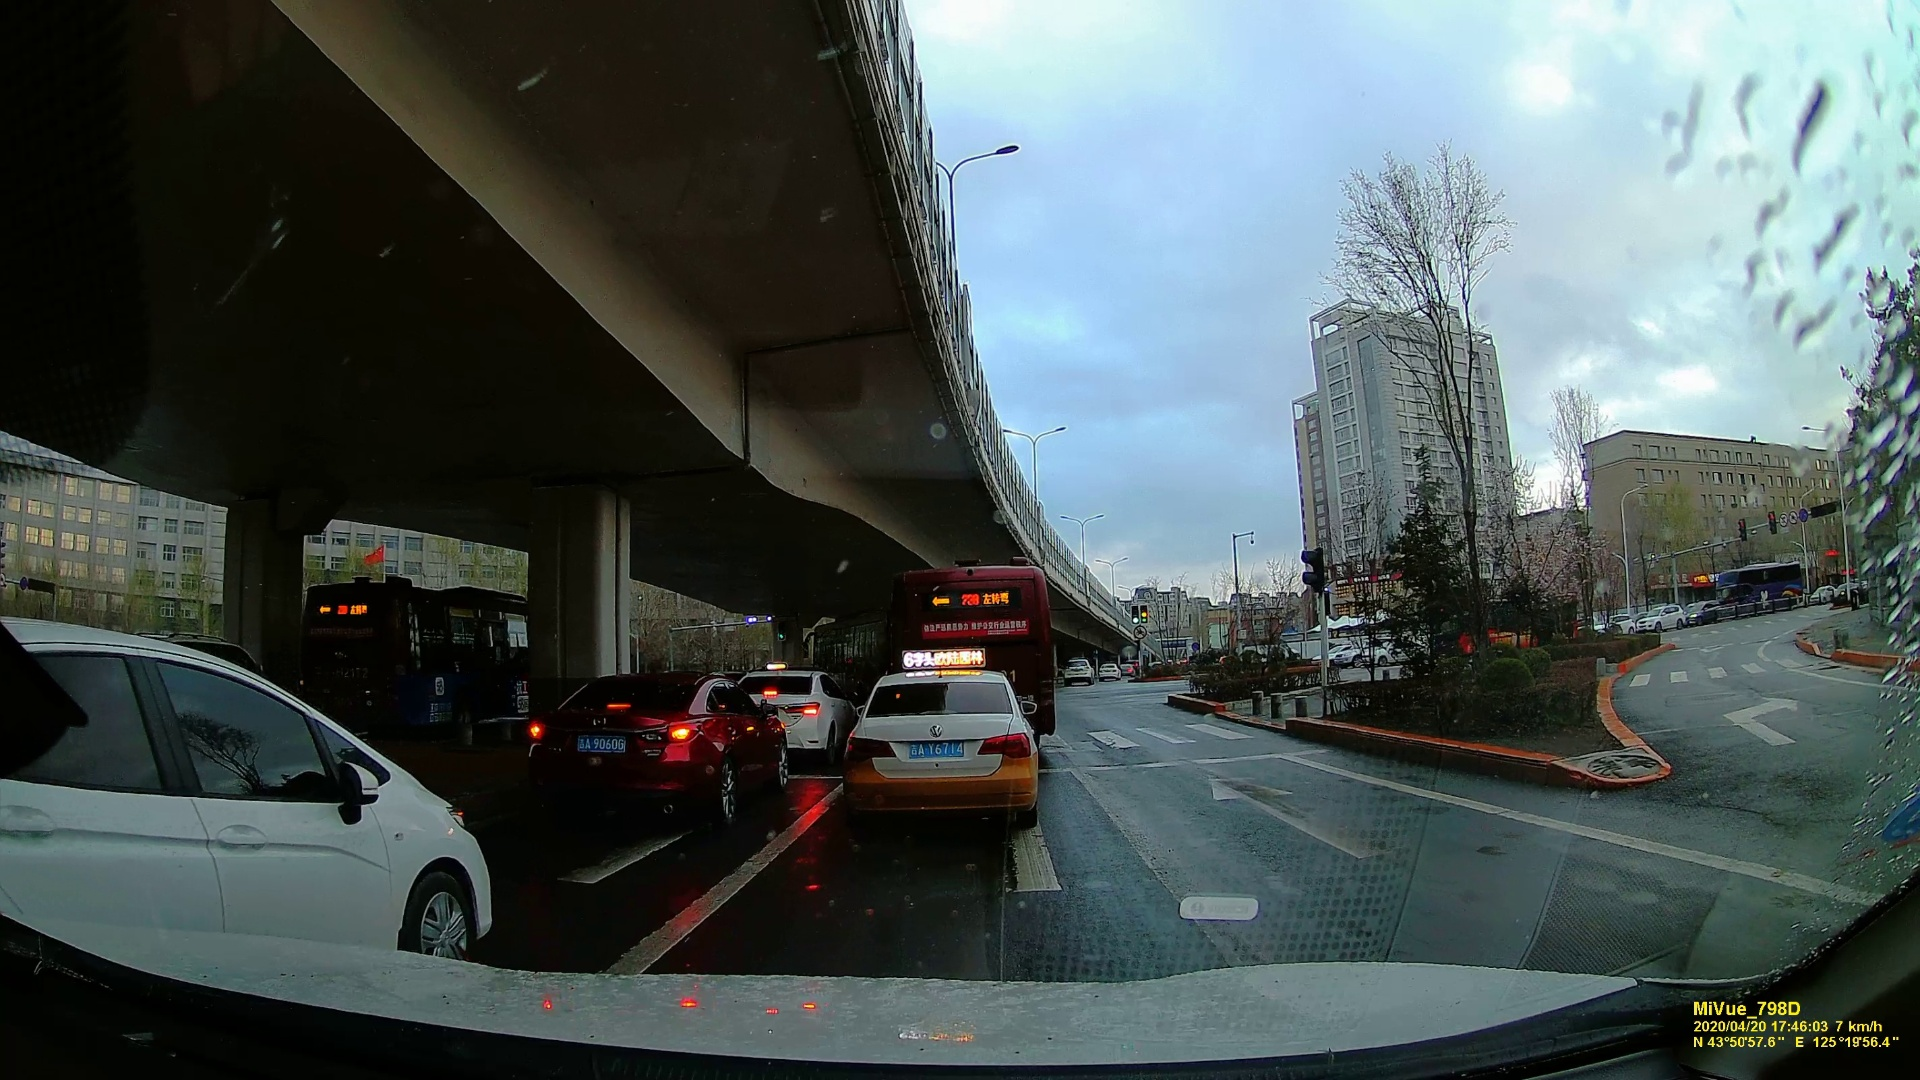bus: (302, 580, 526, 748), (886, 558, 1048, 719), (1717, 560, 1803, 603)
traffic_sign: (1302, 546, 1325, 592), (1764, 512, 1779, 535), (1735, 518, 1749, 543), (1129, 603, 1139, 625), (1133, 626, 1147, 640), (1780, 510, 1788, 527)
vehicle: (1, 621, 492, 967), (533, 667, 802, 815), (843, 657, 1043, 839), (716, 665, 851, 760), (1639, 604, 1684, 632), (1064, 659, 1093, 684)
